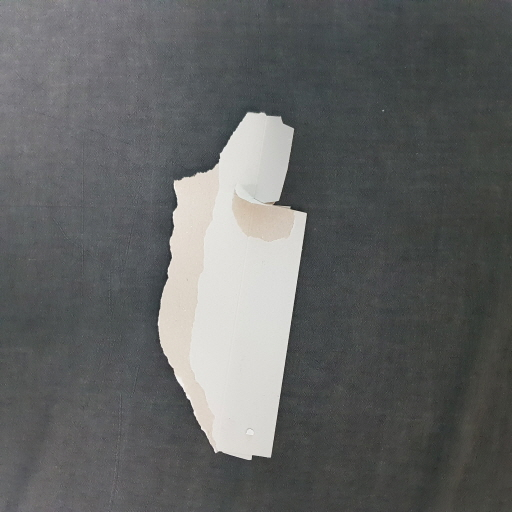Paper_3: (155, 101, 310, 470)
